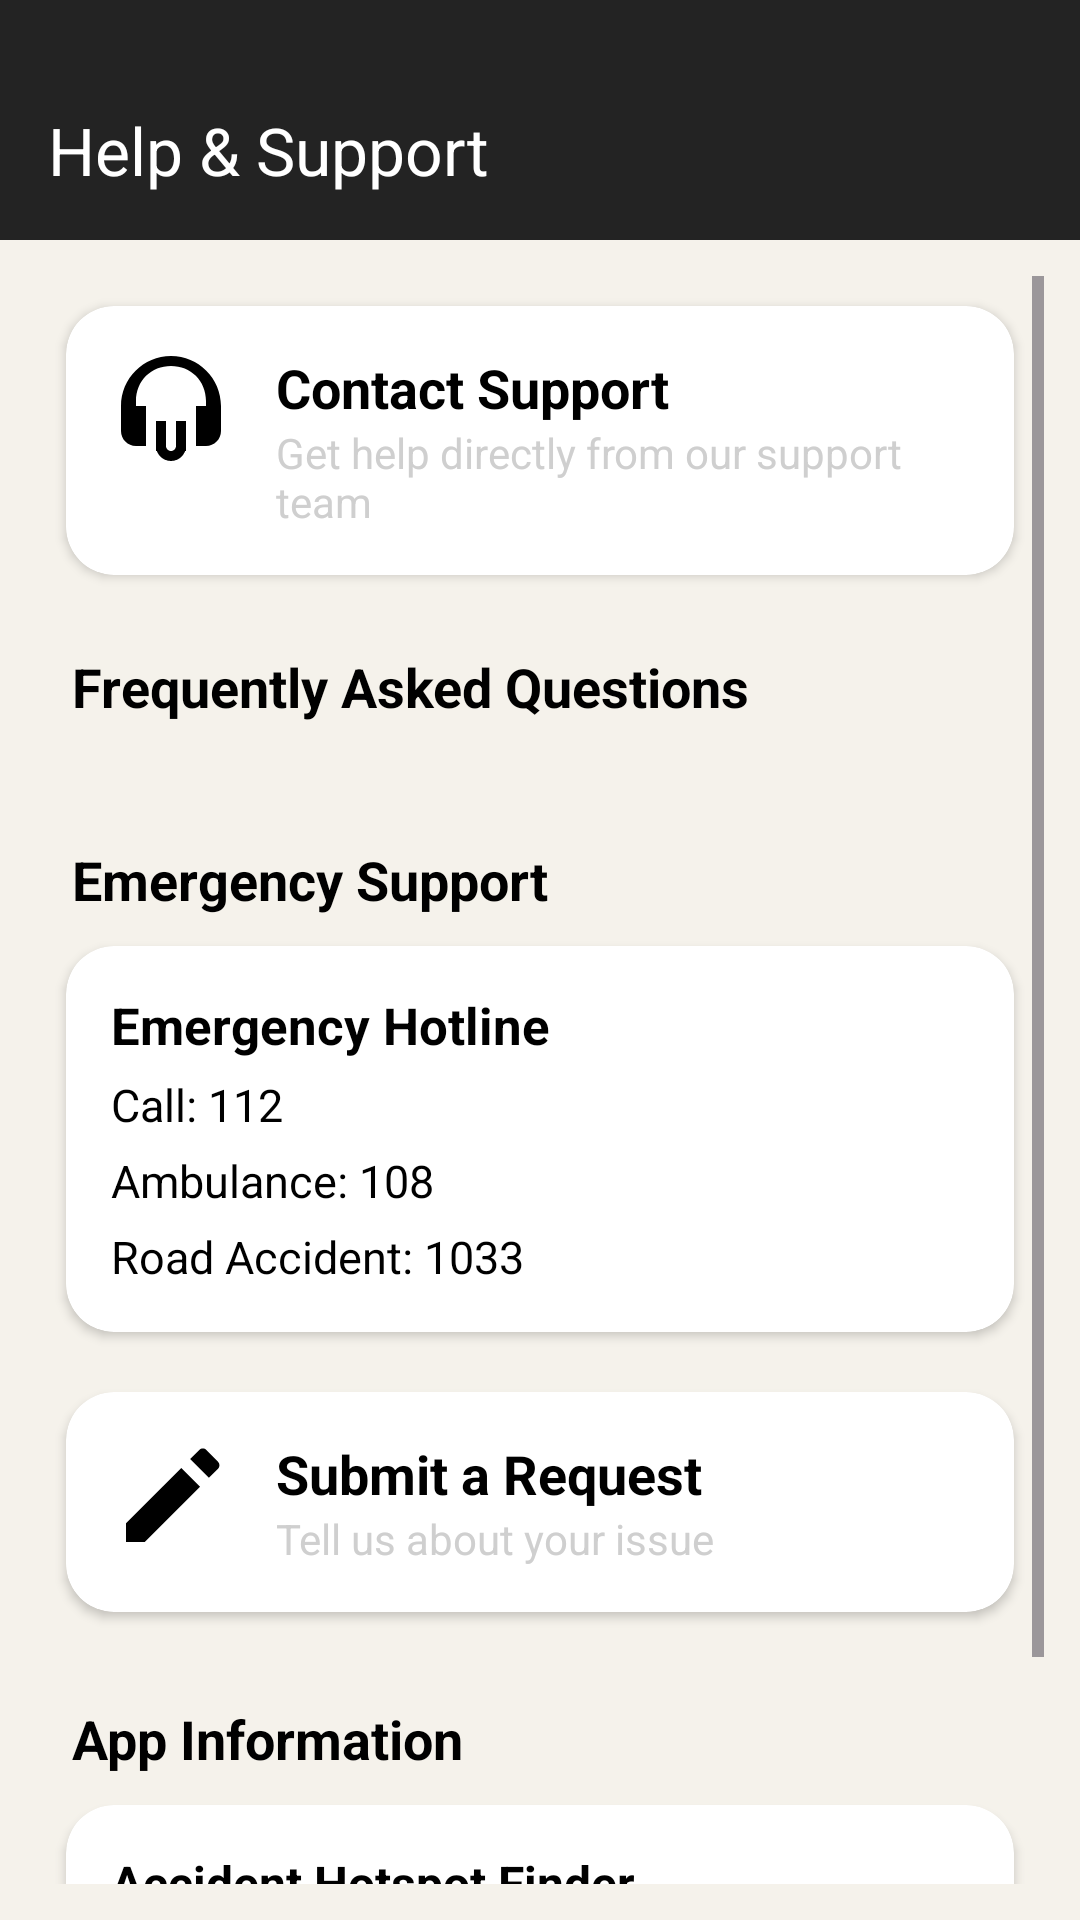

Point at icon controls on the screen. Image size 1080px×1920px, points as (x=x, y=y).
edit: (x=173, y=1495)
